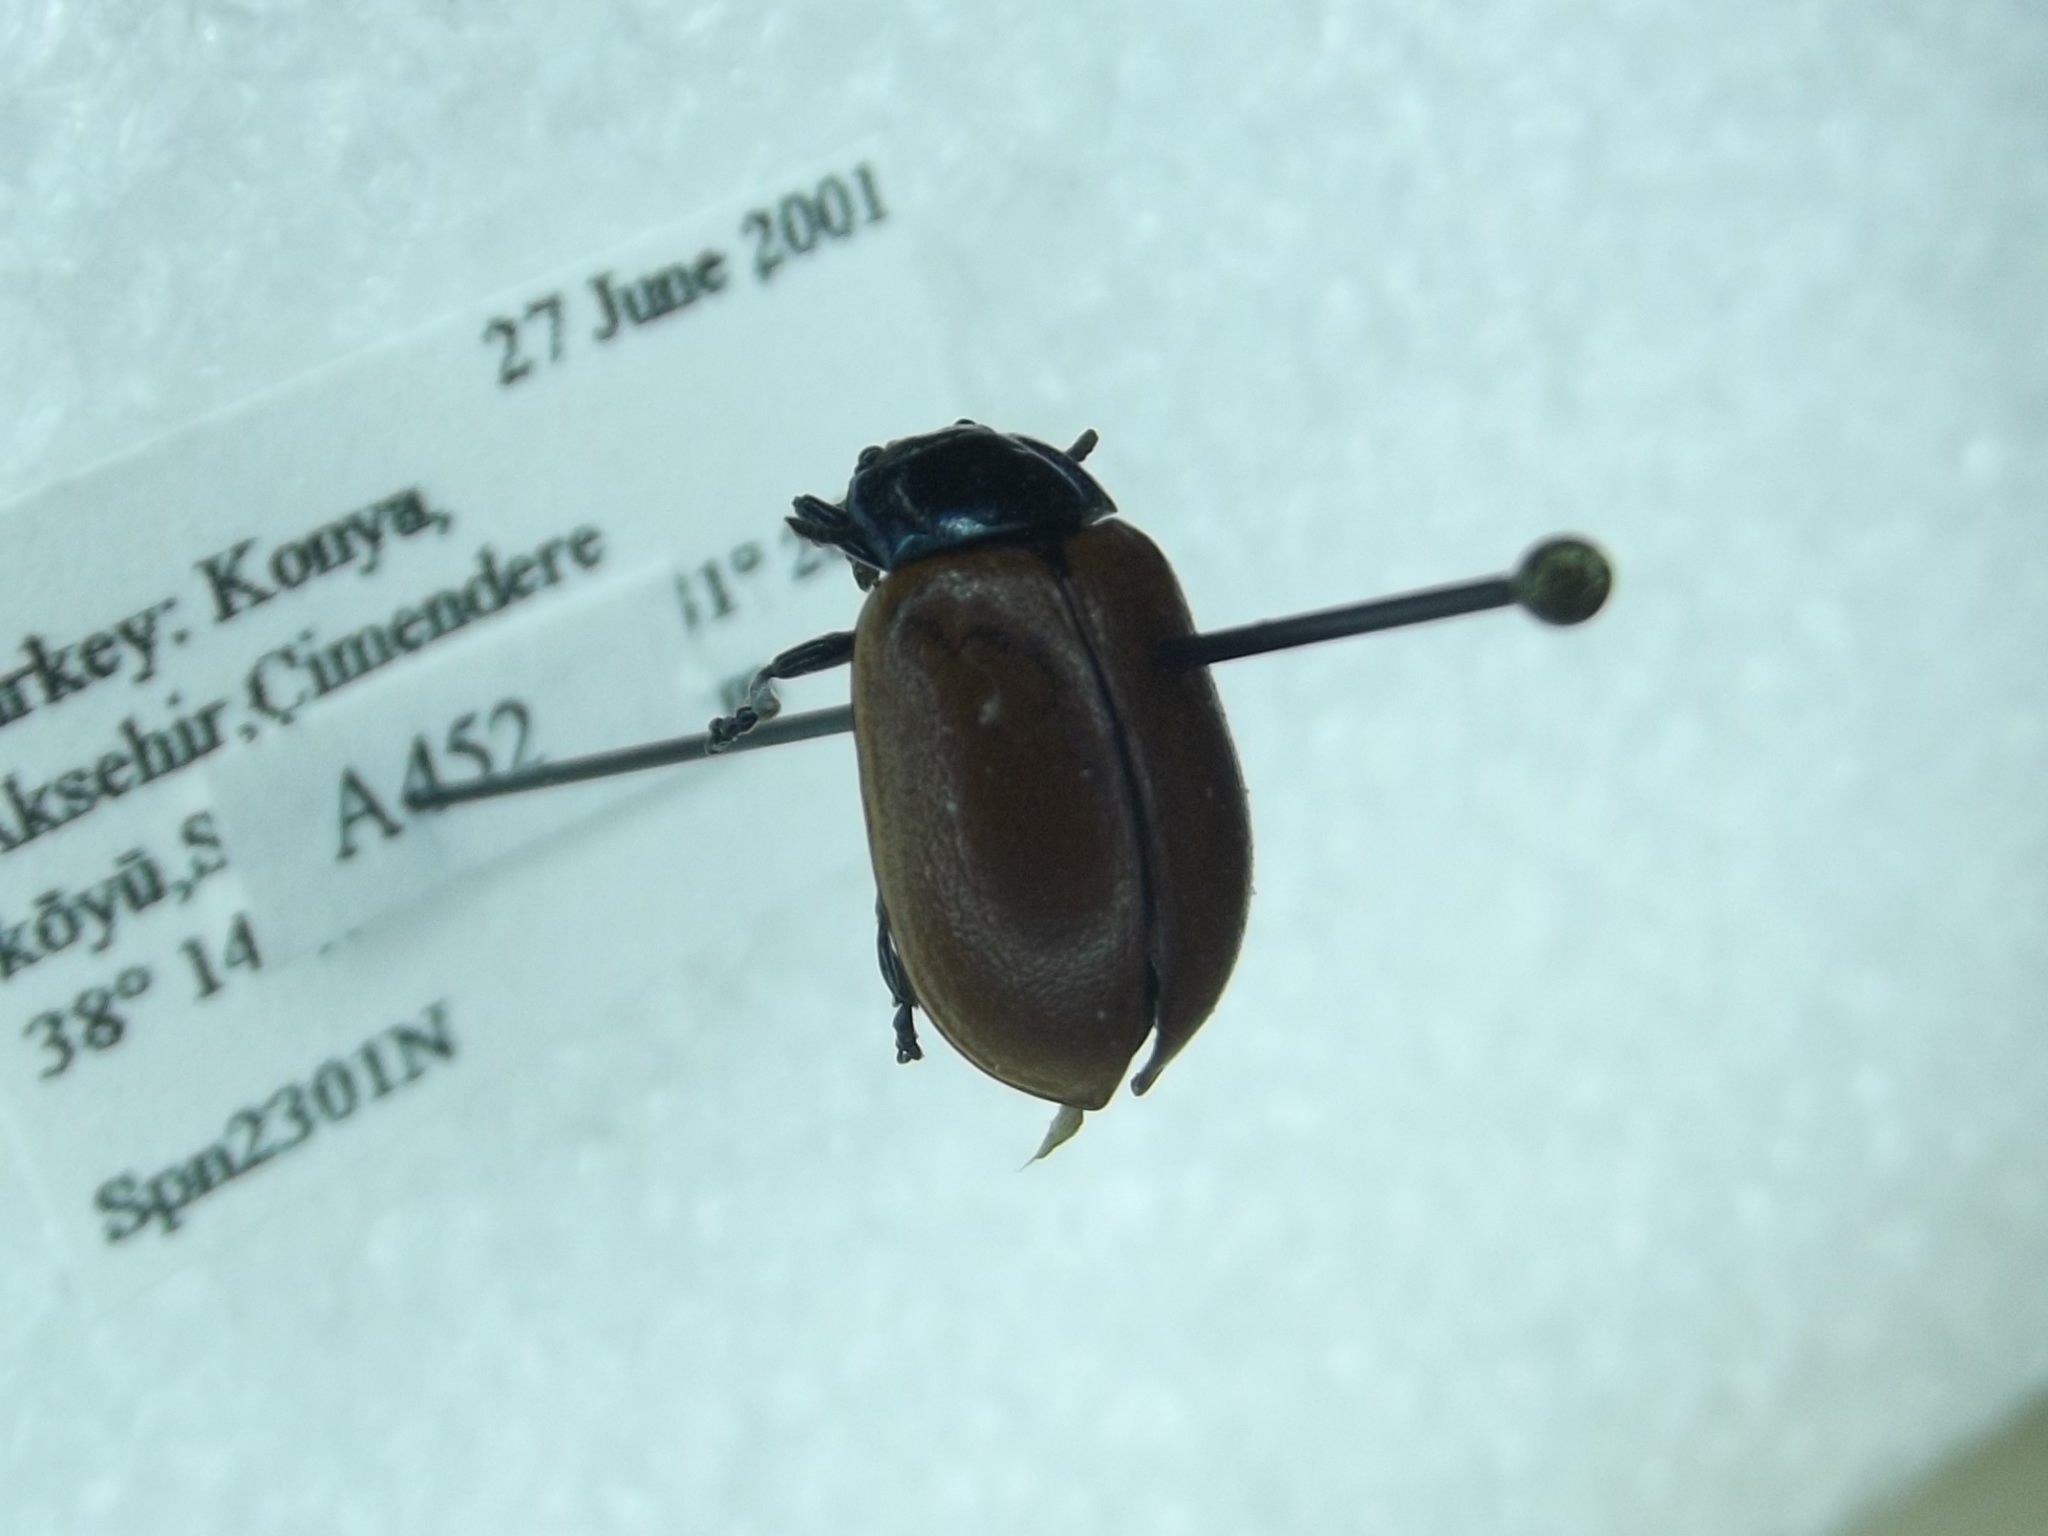Chrysomela_populi: (690, 390, 1284, 1170)
